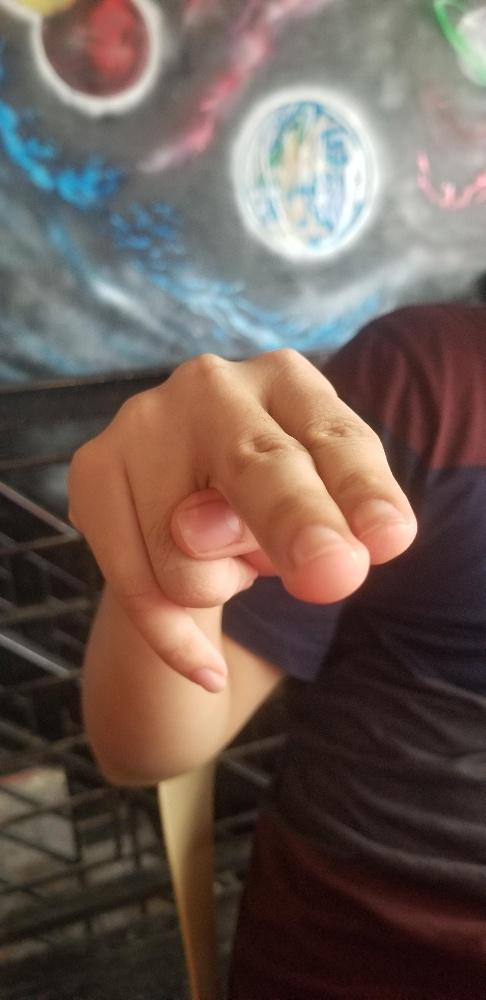n: (61, 344, 419, 692)
